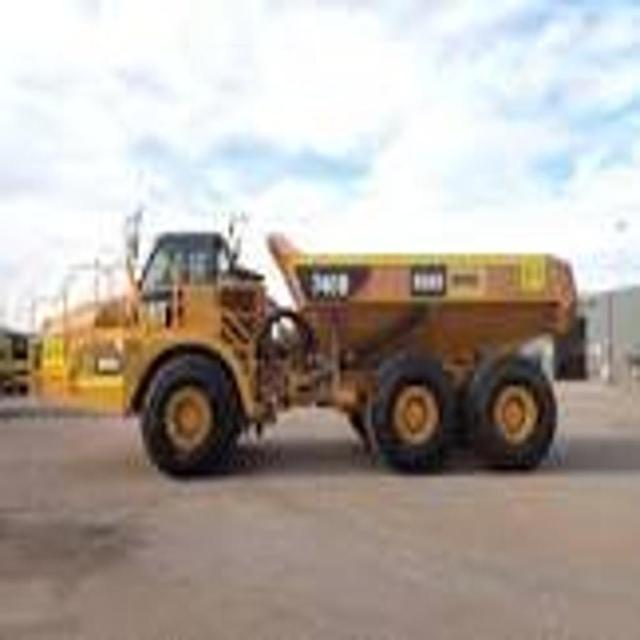dump_truck: (28, 208, 577, 480)
